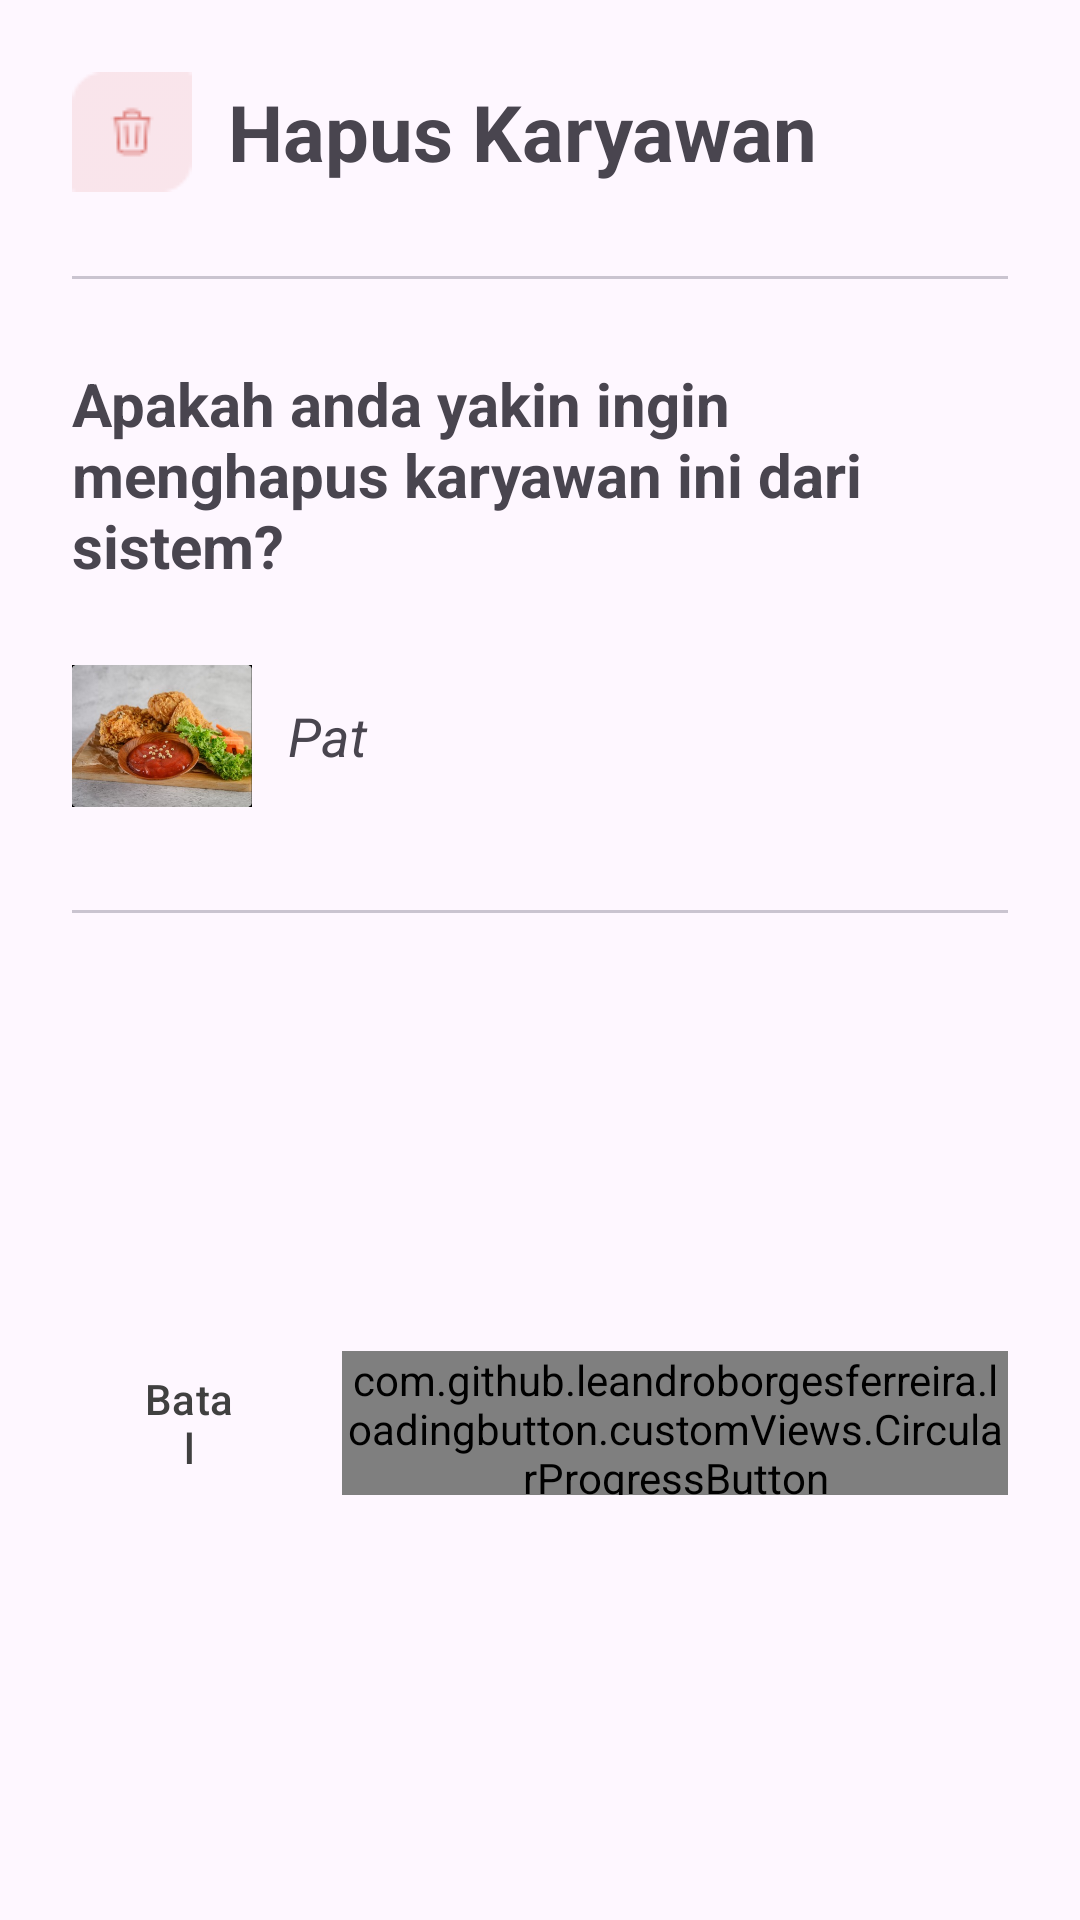

Named icons in this screenshot (1080 × 1920) and their centers, [x,y]:
ayam: [162,736]
